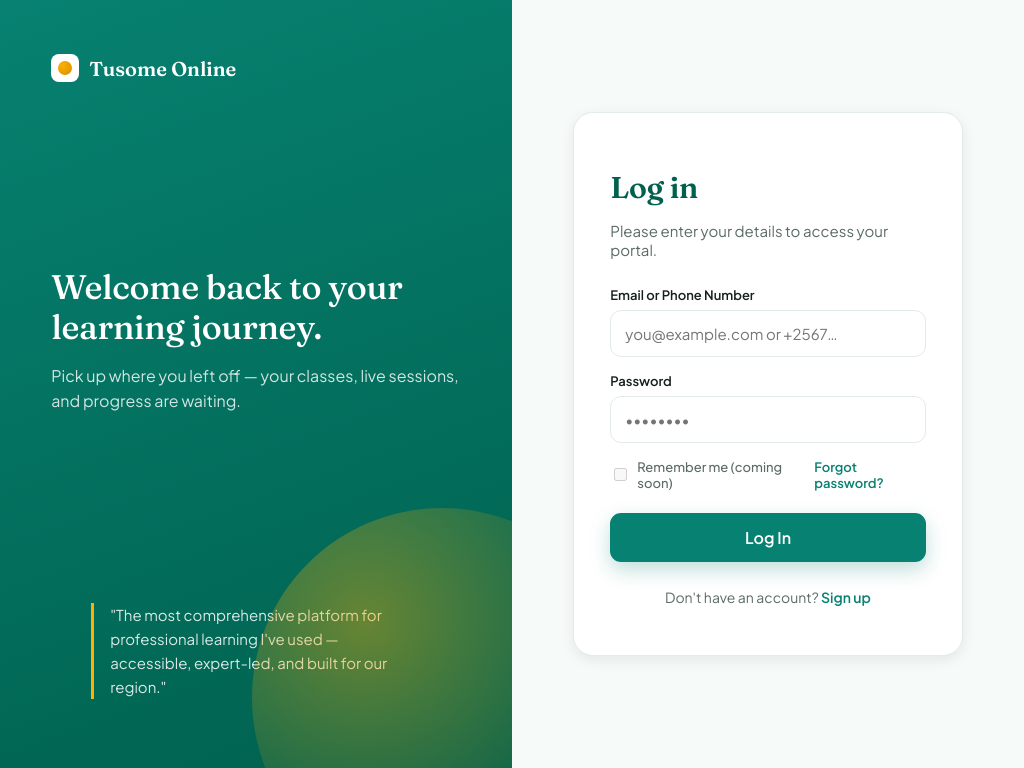
Test: Given a visitor on the login page › when credentials are wrong, then both fields are flagged and the message shows under the password
Step 1. Type "p@t.com" into the field labelled "Email or Phone Number" → coordinates (768, 333), box x1=610 y1=310 x2=926 y2=356
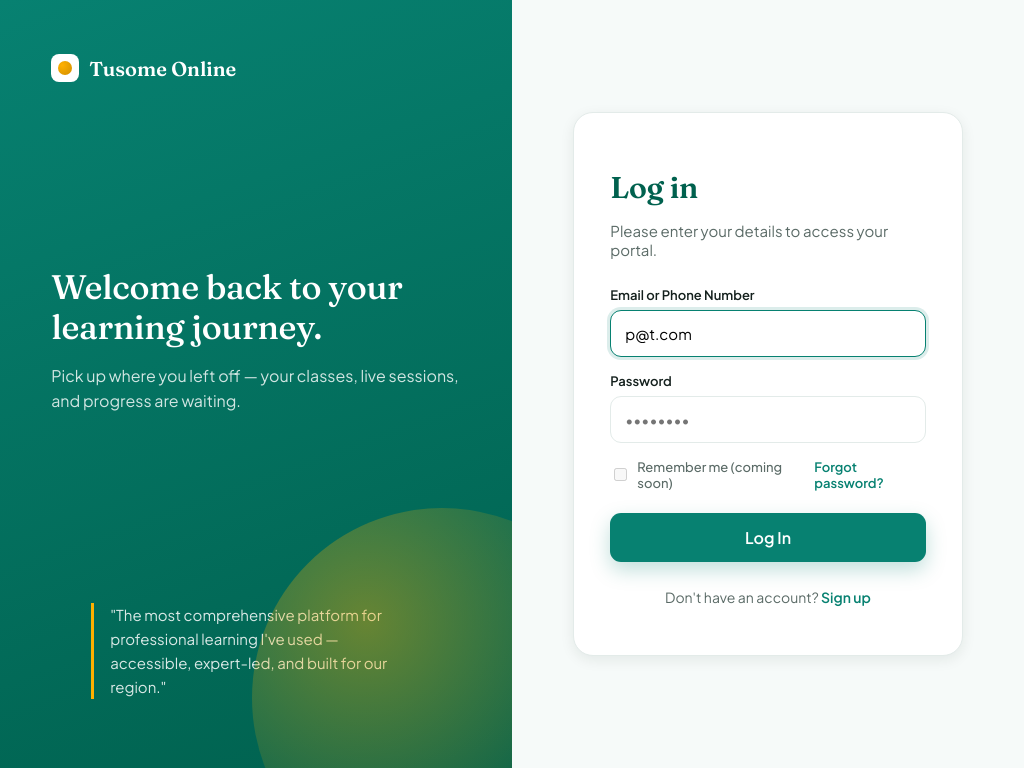
Step 2. Type "wrongpass" into the password field labelled "Password" → coordinates (768, 419), box x1=610 y1=396 x2=926 y2=442
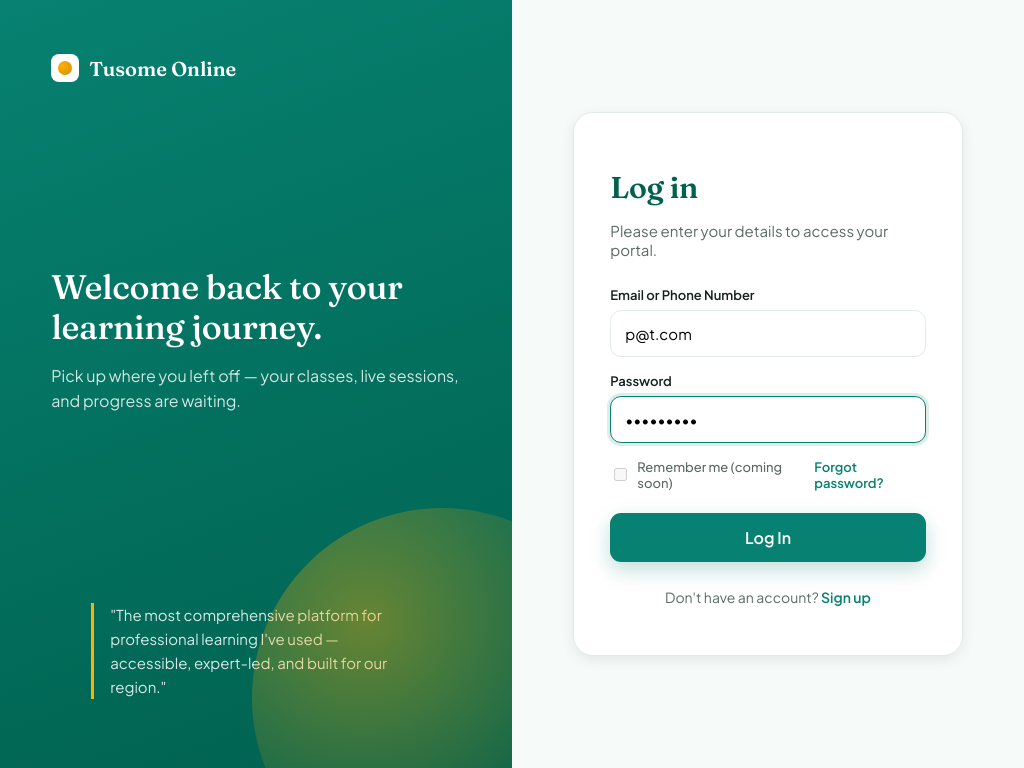
Step 3. Click the button "Log In" → coordinates (768, 537), box x1=610 y1=512 x2=926 y2=562
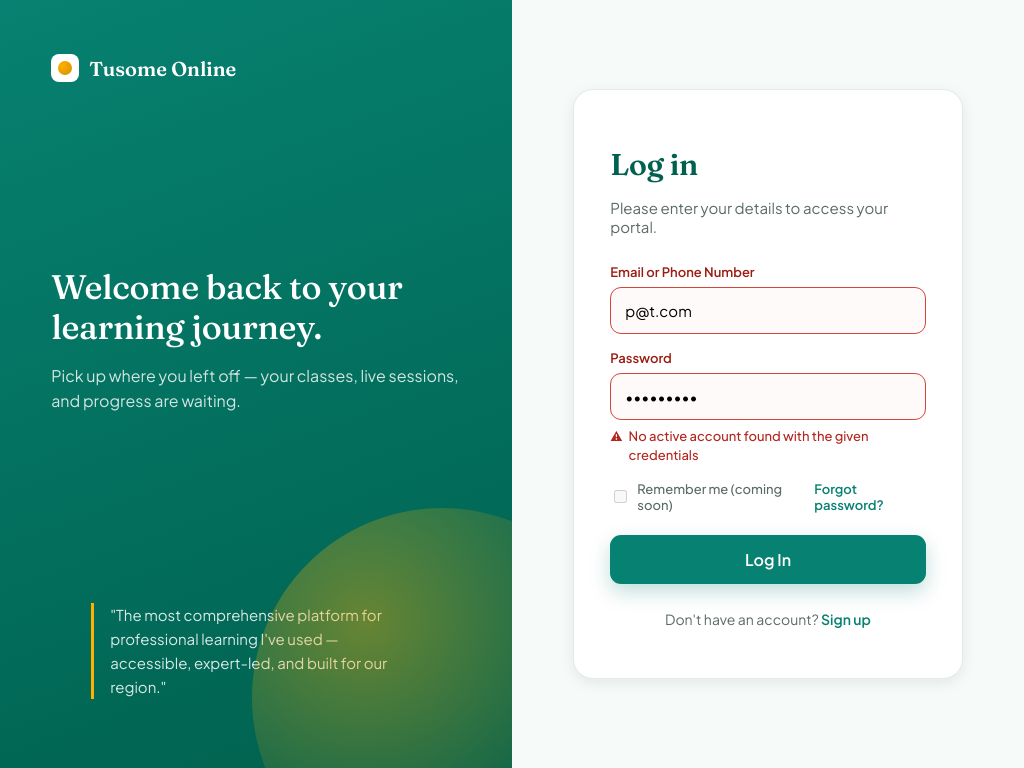
Expected: the text "No active account found with the given credentials" is shown, x1=629 y1=428 x2=869 y2=463
